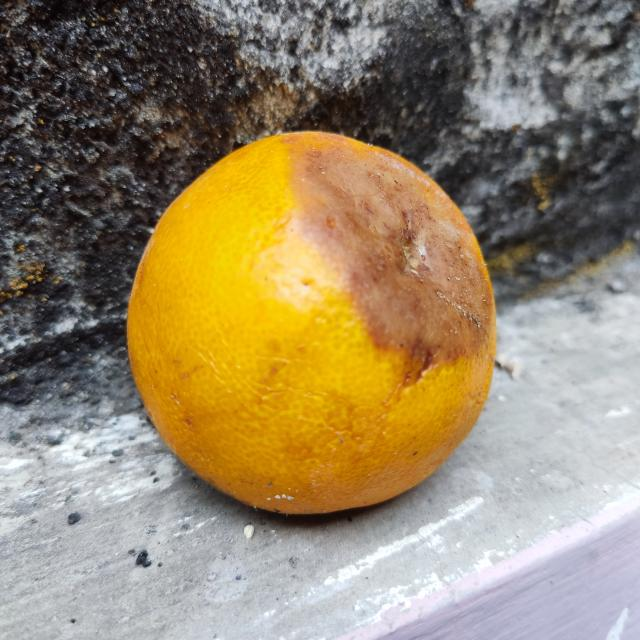orange: (123, 129, 498, 515)
